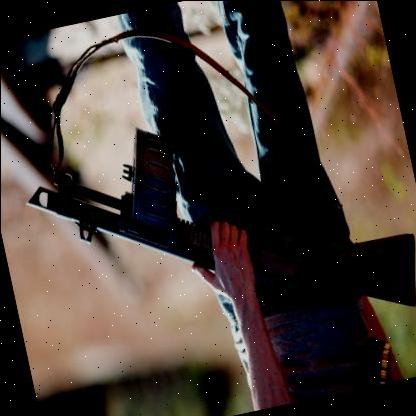rifle: (11, 63, 416, 386)
